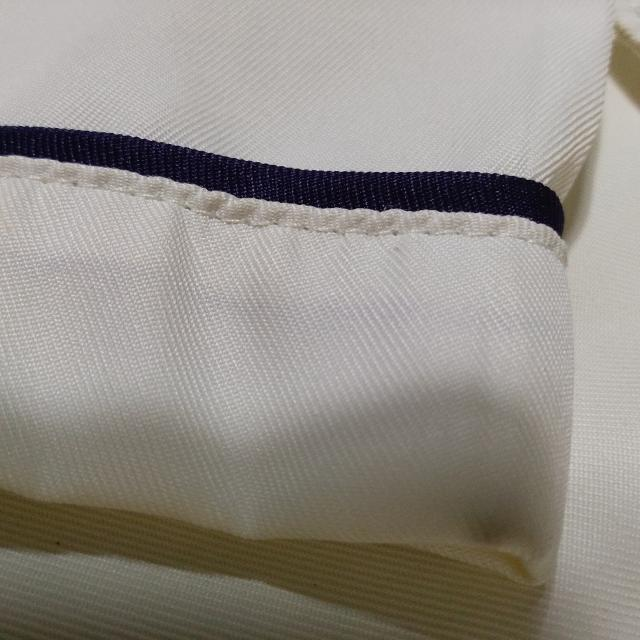education_male_uniform: (0, 173, 630, 640)
